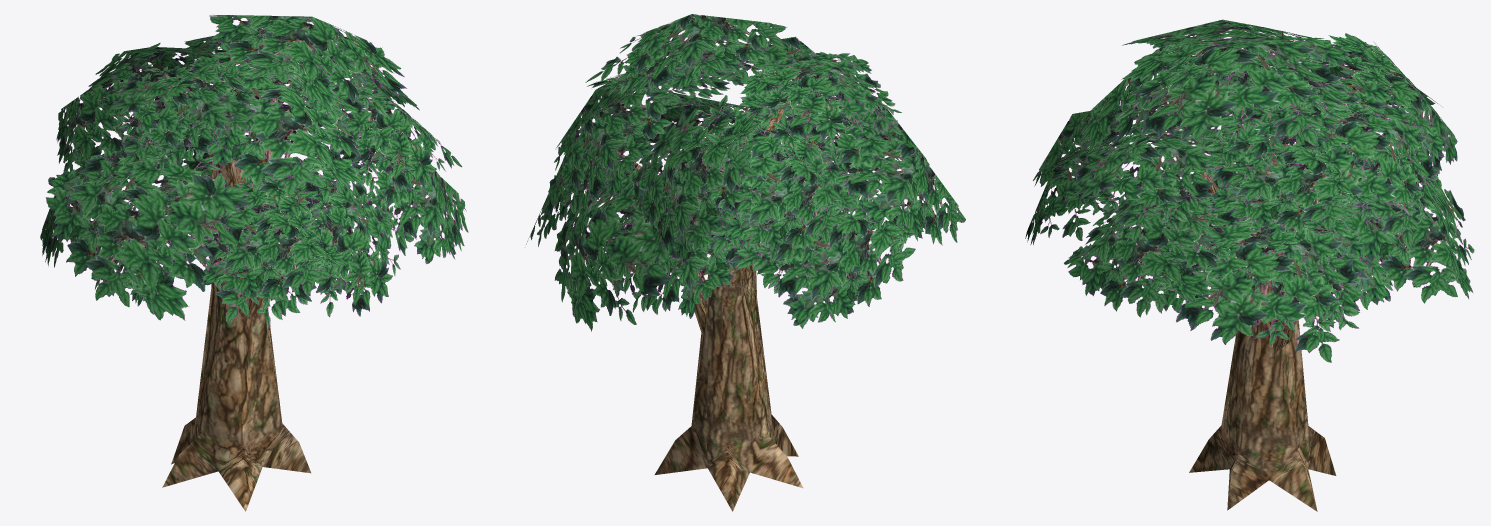
File: n_tree04.glb
3 views of the same model, side by side, from view 1: azimuth 30°, elevation 25°; view 2: azimuth 150°, elevation 25°; view 3: azimuth 270°, elevation 25° (orthographic). The views are drawn at different scales.
Visible parts, largest first — view 1: n_tree04; view 2: n_tree04; view 3: n_tree04.
Part boxes in pixels (x1=…): n_tree04: x1=40, y1=14, x2=468, y2=511; n_tree04: x1=526, y1=14, x2=965, y2=511; n_tree04: x1=1025, y1=19, x2=1474, y2=511.
Bounding box in the file's own units: 2.61 × 2.87 × 2.53.
Materials: 2 (2 with a texture image).
